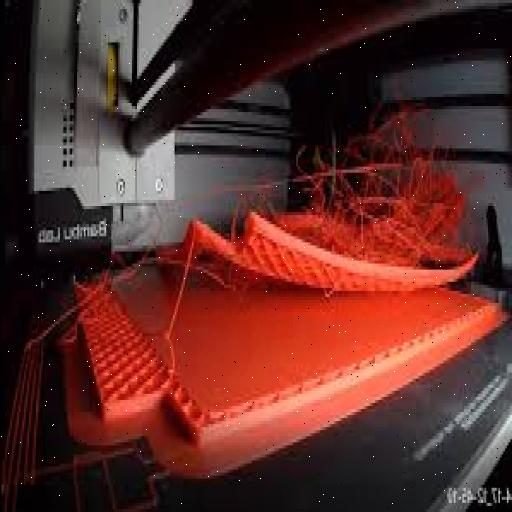spaghetti: (238, 108, 468, 240), (64, 219, 144, 335)
